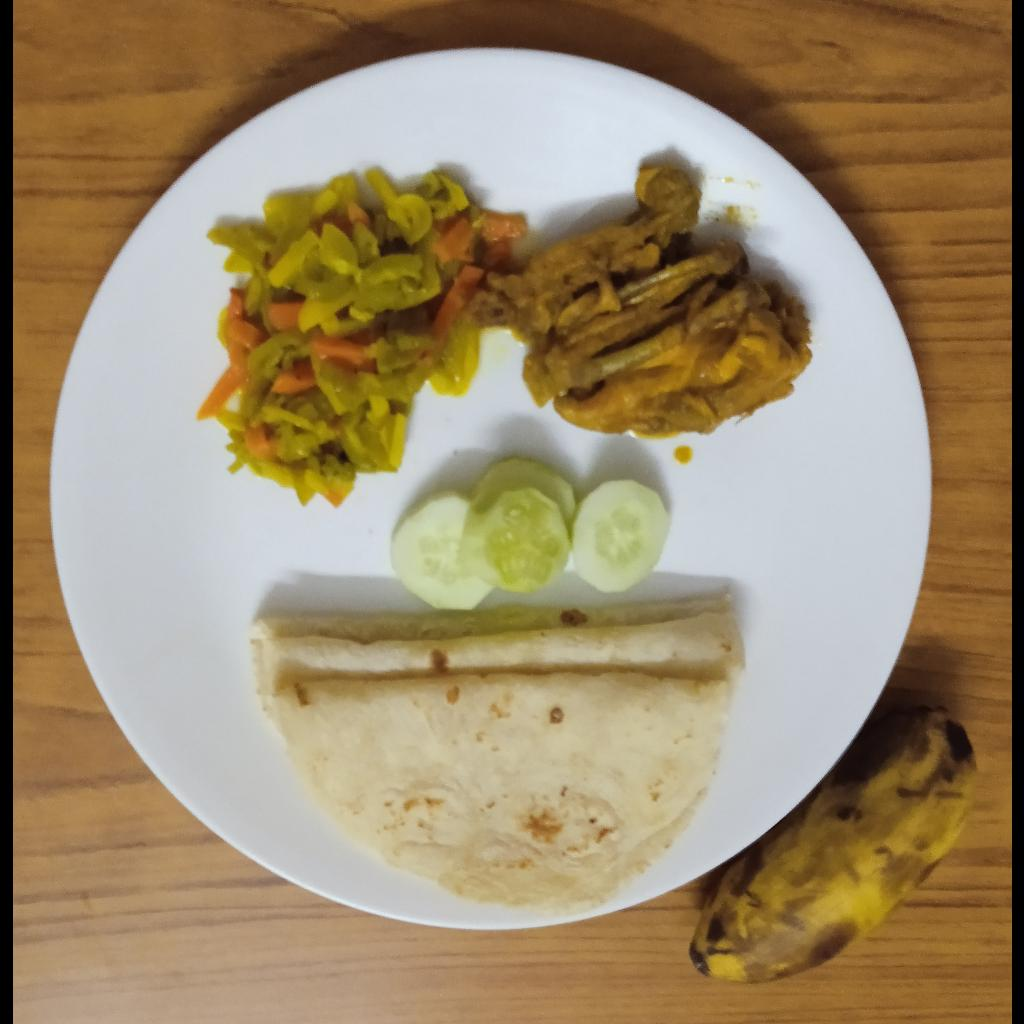banana: (693, 705, 976, 986)
chichinga-vaji: (196, 162, 523, 509)
chicken: (485, 168, 813, 439)
cucumber: (388, 459, 669, 608)
ruti: (248, 594, 737, 910)
